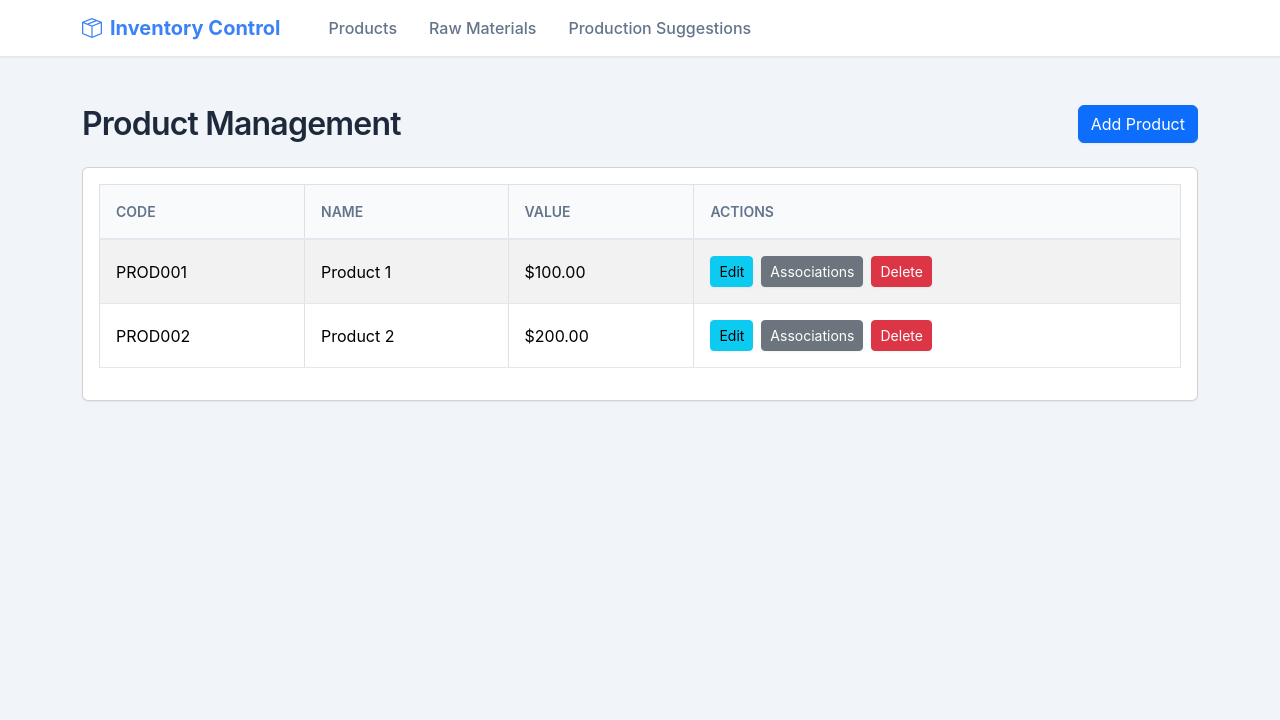
Scenario: Product Management › should open add product modal
The image size is (1280, 720).
Click the button "Add Product" at (1138, 124), box [1078,105,1198,143]
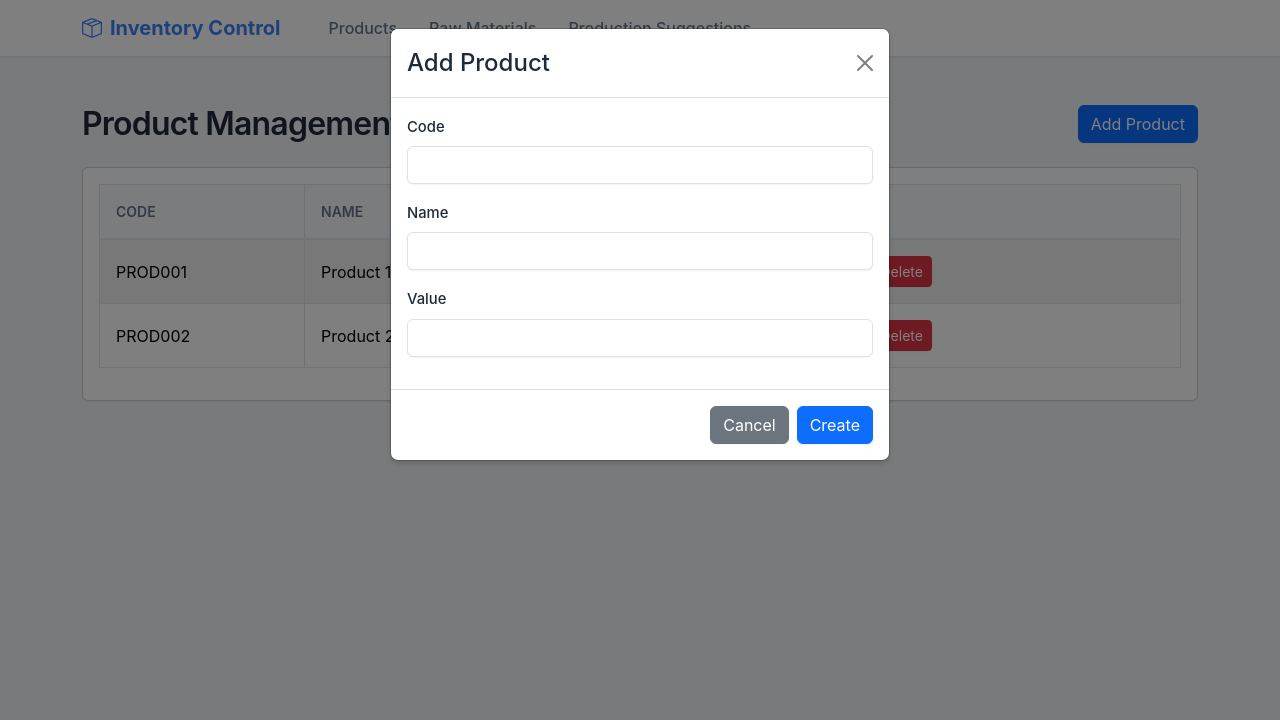
Expected: the 1st field is shown, [407,146,873,184]
Expected: the 2nd field is shown, [407,232,873,270]
Expected: the number field is shown, [407,319,873,357]
